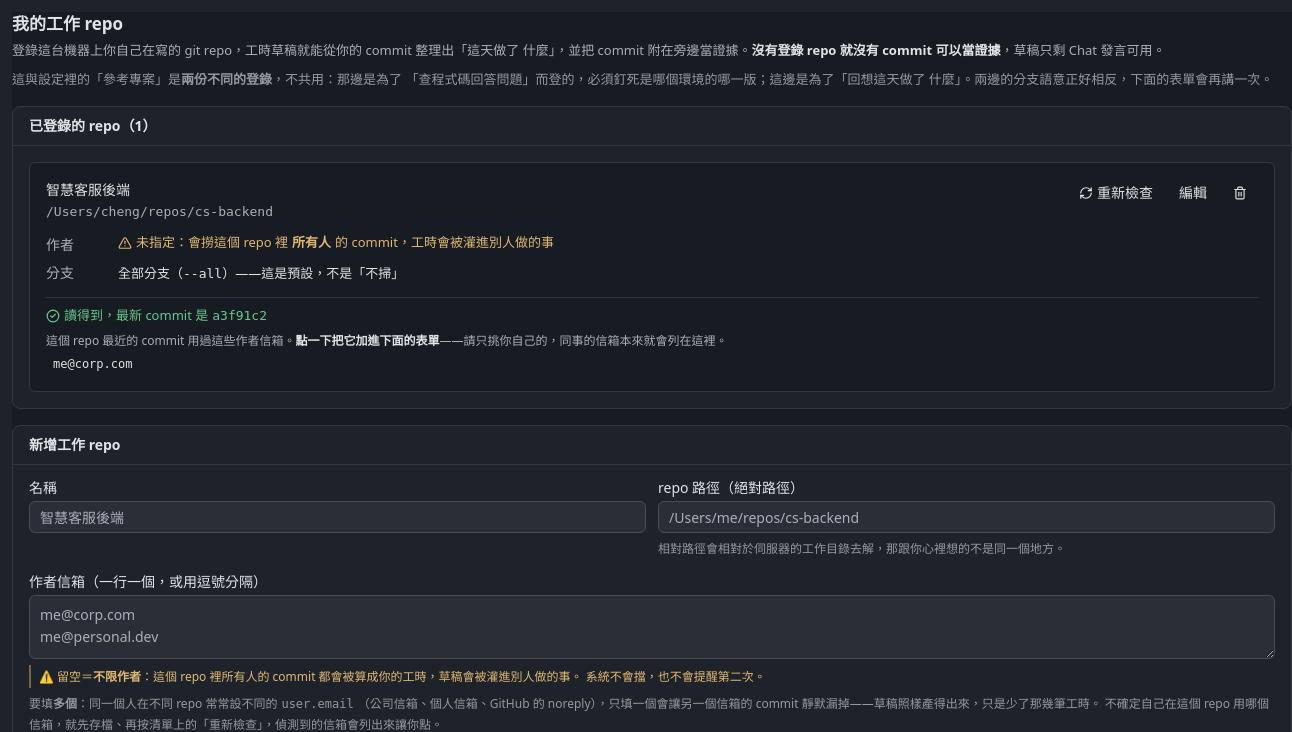
Test case: 我的工作 repo：重新檢查 › **點偵測到的信箱會把它填進編輯表單**（一鍵填入的引導）
Click the button "me@corp.com". click: (93, 365)
box: top-left (46, 355), bottom-right (140, 375)
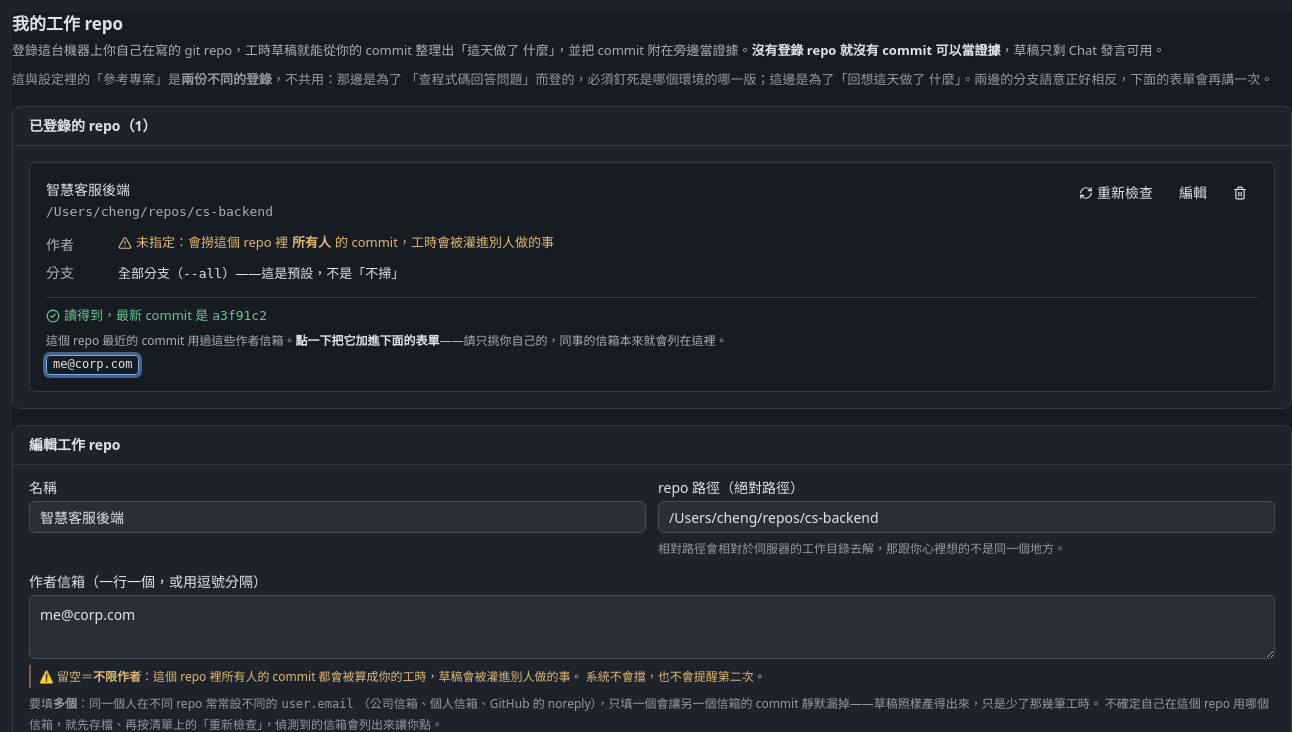
Expected: the heading "編輯工作 repo" is shown, top-left (29, 435), bottom-right (120, 454)
Expected: the text box labelled "作者信箱（一行一個，或用逗號分隔）" holds "me@corp.com", top-left (29, 595), bottom-right (1275, 659)
